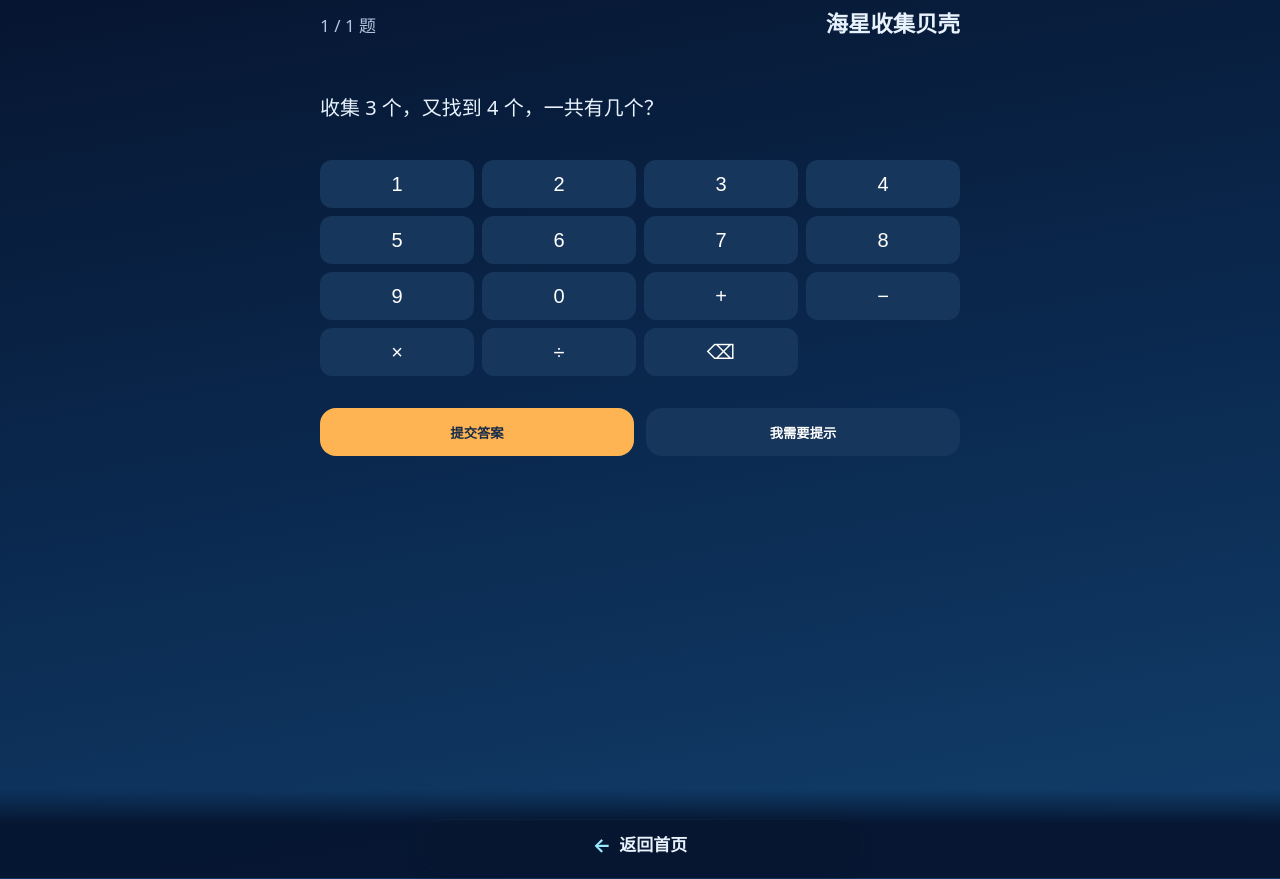
Test: QuestView feedback › 答错后看答案展开五层提示与最终答案
The image size is (1280, 879).
Click the button "8": (883, 240) x1=806 y1=216 x2=960 y2=264
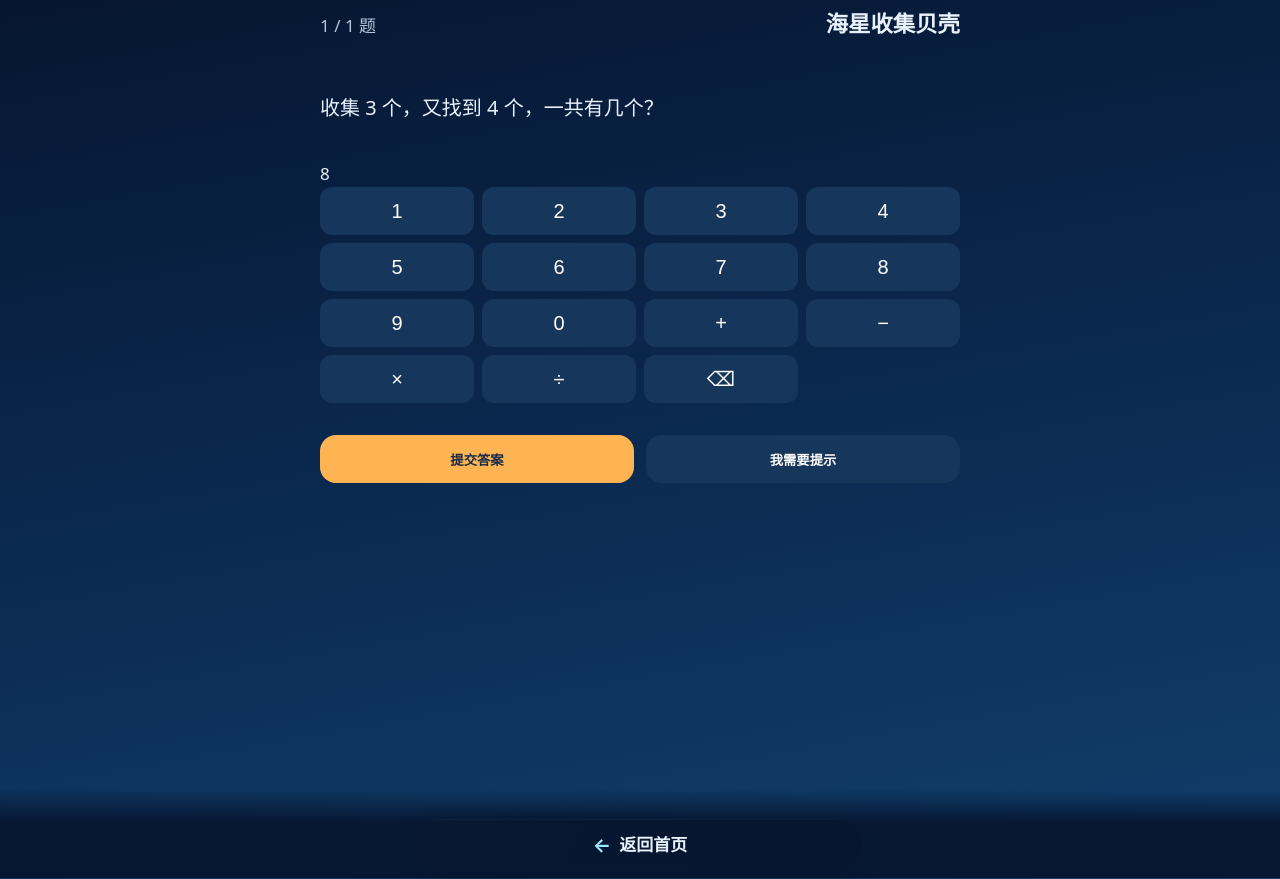
Click the button with test id "action-submit": (477, 459) x1=320 y1=435 x2=634 y2=483
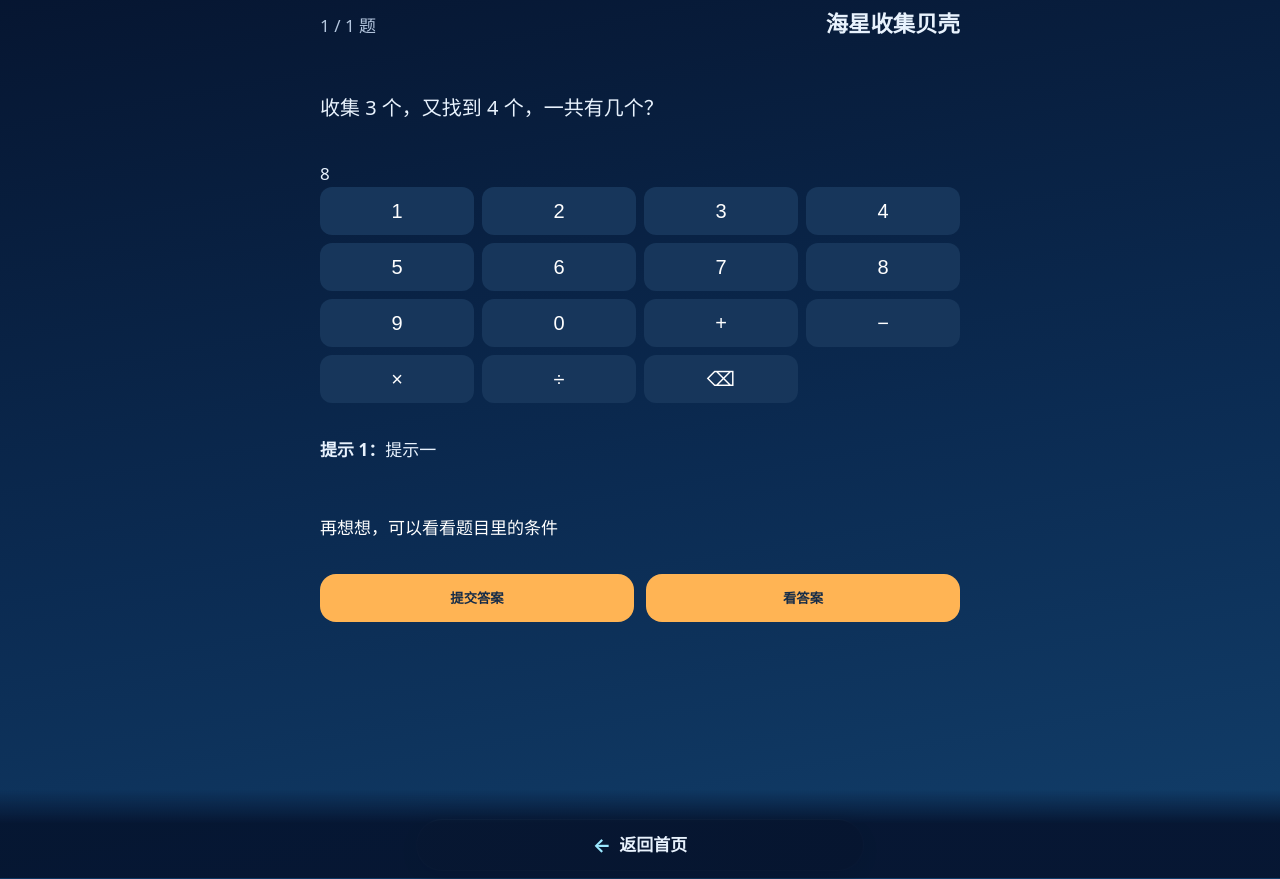
Now the button with test id "action-reveal" is shown
Click the button with test id "action-reveal": (803, 598) x1=646 y1=574 x2=960 y2=622
(page scrolled)
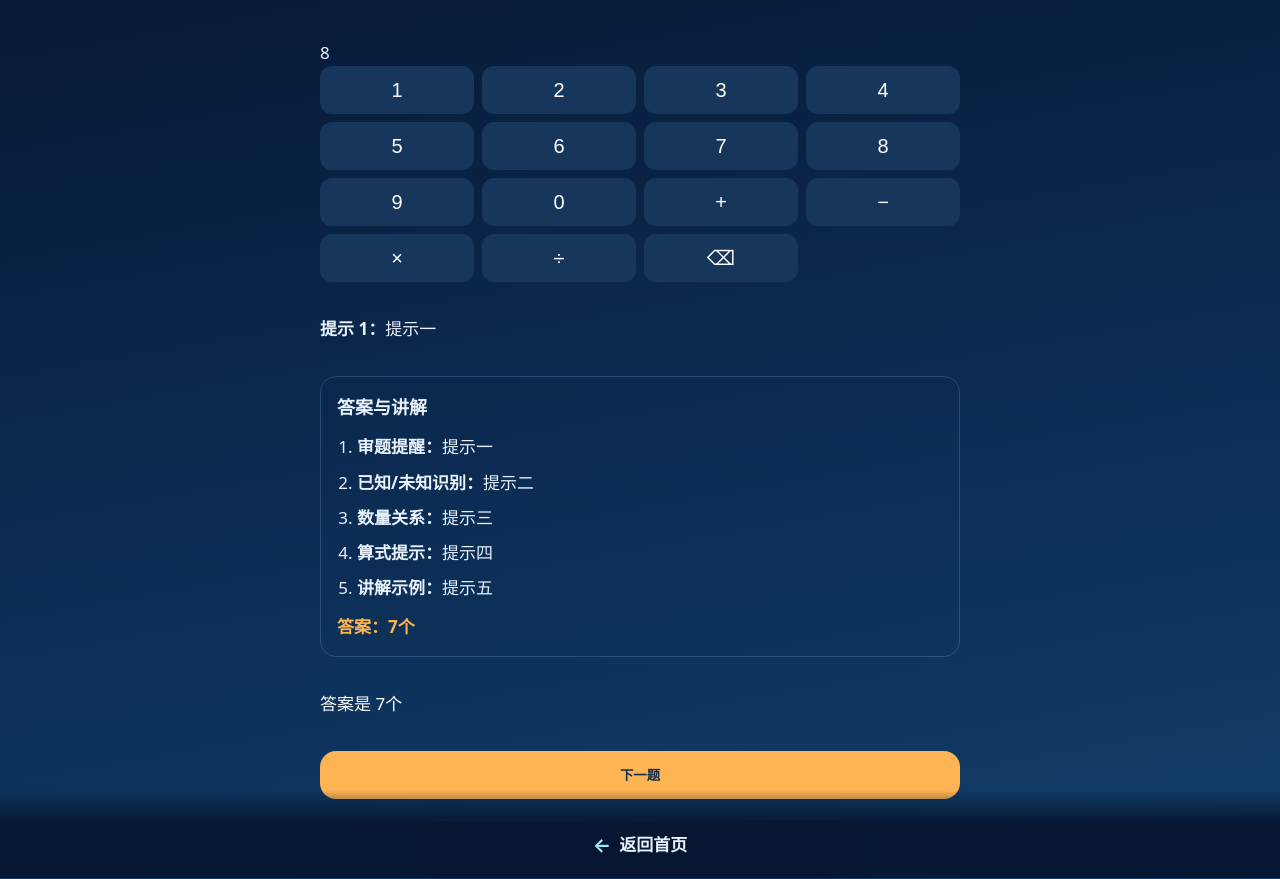
Now the number of list items with test id "explanation-hint" is 5, box x1=357 y1=435 x2=493 y2=458; x1=357 y1=470 x2=534 y2=494; x1=357 y1=506 x2=493 y2=529; x1=357 y1=541 x2=493 y2=564; x1=357 y1=576 x2=493 y2=599
Now the element with test id "answer-explanation" shows "审题提醒", box x1=357 y1=435 x2=442 y2=458
Now the element with test id "answer-explanation" shows "提示五", box x1=442 y1=576 x2=493 y2=599
